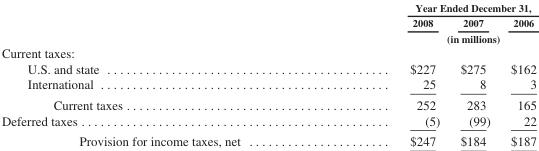table: (0, 1, 535, 148)
table column: (0, 1, 324, 148), (324, 1, 449, 148), (449, 1, 499, 148), (499, 1, 535, 148)
table column header: (0, 1, 535, 44)
table projected row header: (0, 44, 535, 60)
table row: (0, 76, 535, 94), (0, 94, 535, 112), (0, 112, 535, 130), (0, 130, 535, 148), (0, 14, 535, 30), (0, 44, 535, 60), (0, 60, 535, 76), (0, 30, 535, 44), (0, 1, 535, 14)
table spanning cell: (324, 30, 535, 44), (324, 1, 535, 14)
